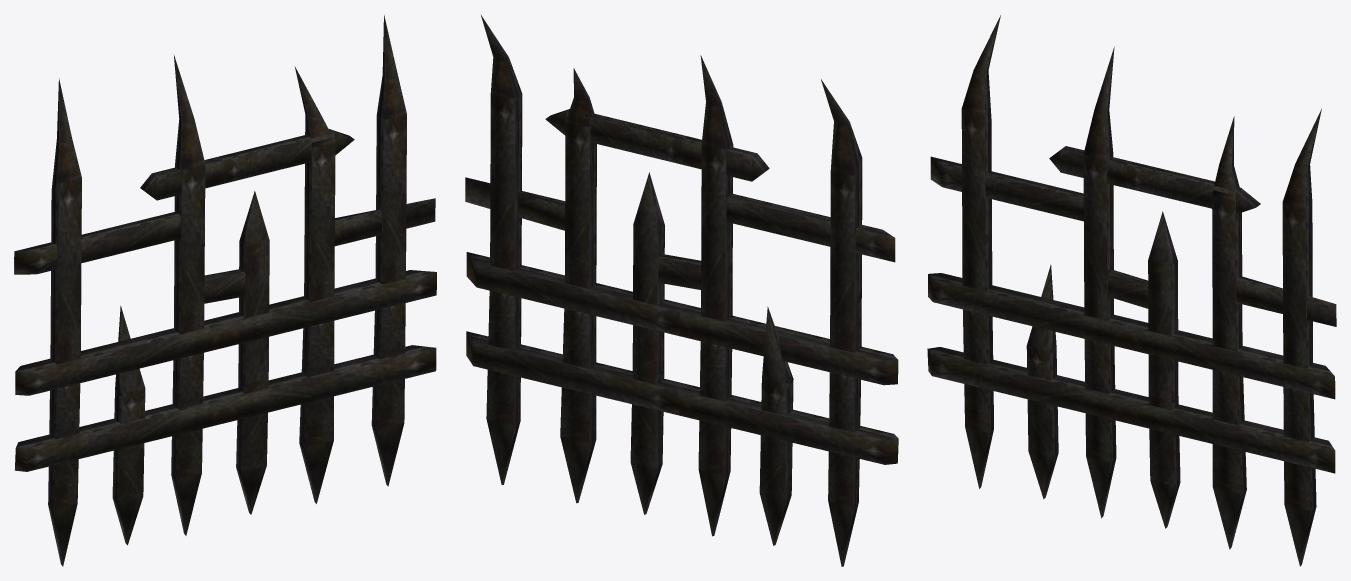
The model's file is S_Build_Muxue043.FBX.
3 views of the same model, side by side, from view 1: azimuth 30°, elevation 25°; view 2: azimuth 150°, elevation 25°; view 3: azimuth 330°, elevation 25° (orthographic). The views are drawn at different scales.
Parts seen in each view (by area): view 1: S_Build_Muxue043; view 2: S_Build_Muxue043; view 3: S_Build_Muxue043.
Boxes of the visible parts, left/top/right/bottom form: S_Build_Muxue043: left=14, top=15, right=436, bottom=566; S_Build_Muxue043: left=465, top=14, right=898, bottom=566; S_Build_Muxue043: left=927, top=15, right=1336, bottom=566.
Size of the model in its own units: 472 by 41.31 by 515.
